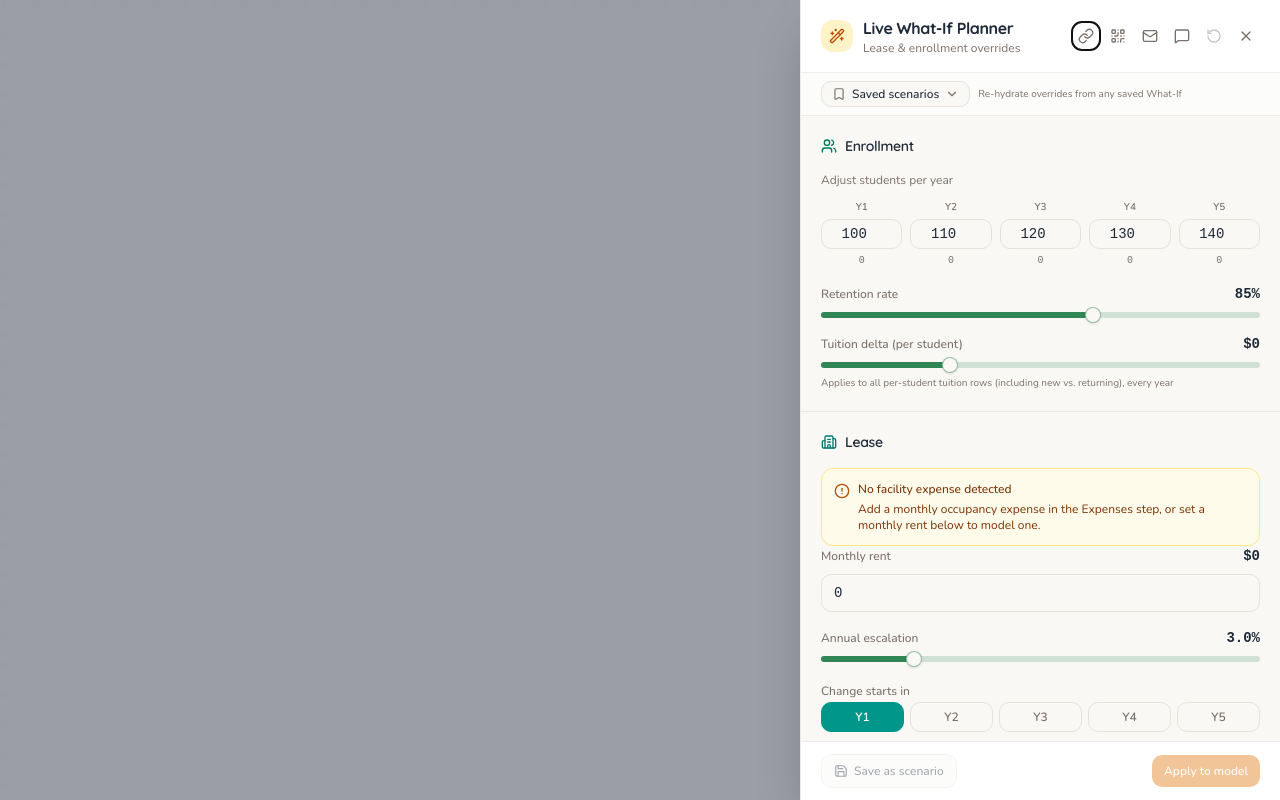
WhatIfDrawer — saved scenarios picker › shows an empty-state hint pointing at the footer Save action when there are no saved scenarios
Click the button with test id "whatif-saved-scenarios-trigger": coordinates (896, 94) [821, 81, 970, 107]
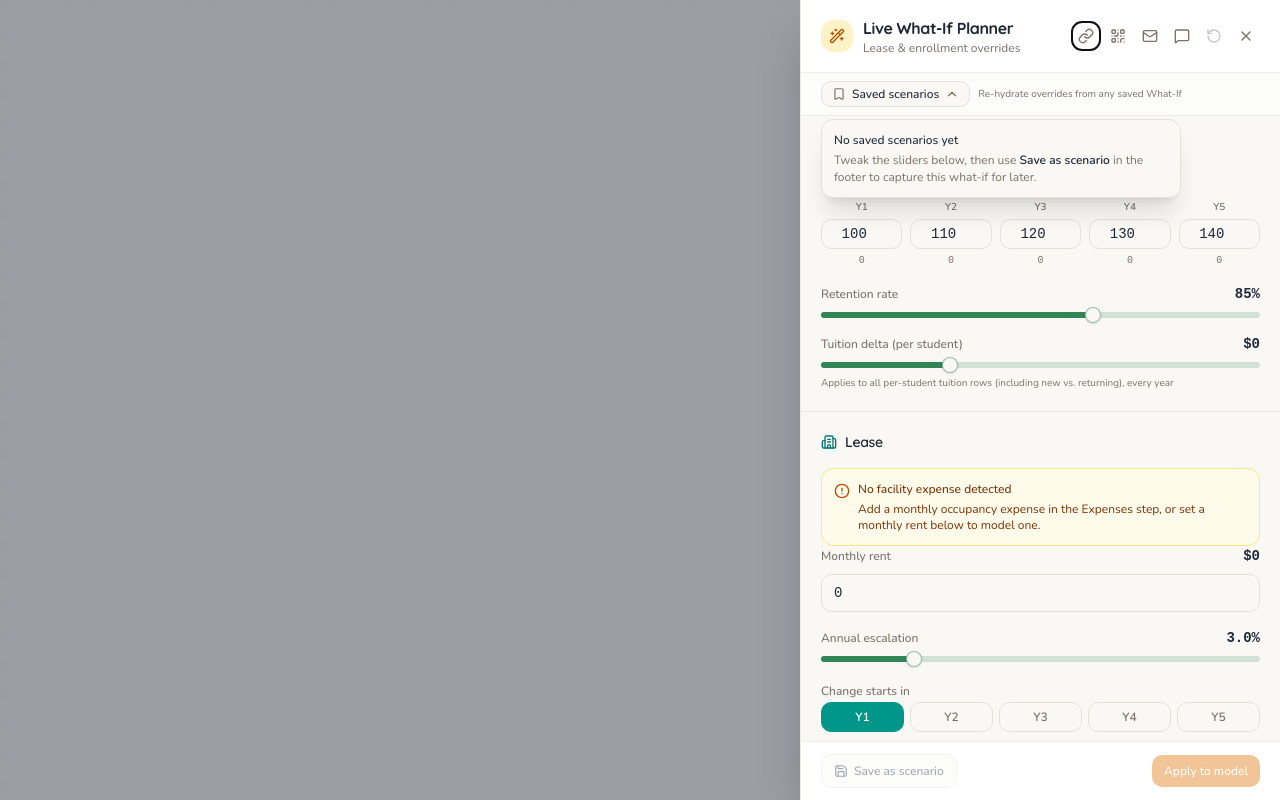
Now the element with test id "whatif-saved-scenarios-empty" shows "No saved scenarios yet", box [834, 132, 958, 148]
Now the element with test id "whatif-saved-scenarios-empty" shows "Save as scenario", box [1020, 152, 1110, 168]
